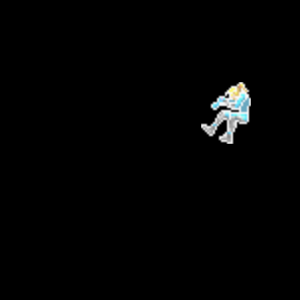Collectible: (201, 82, 251, 144)
